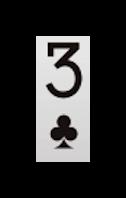3C: (42, 39, 86, 154)
